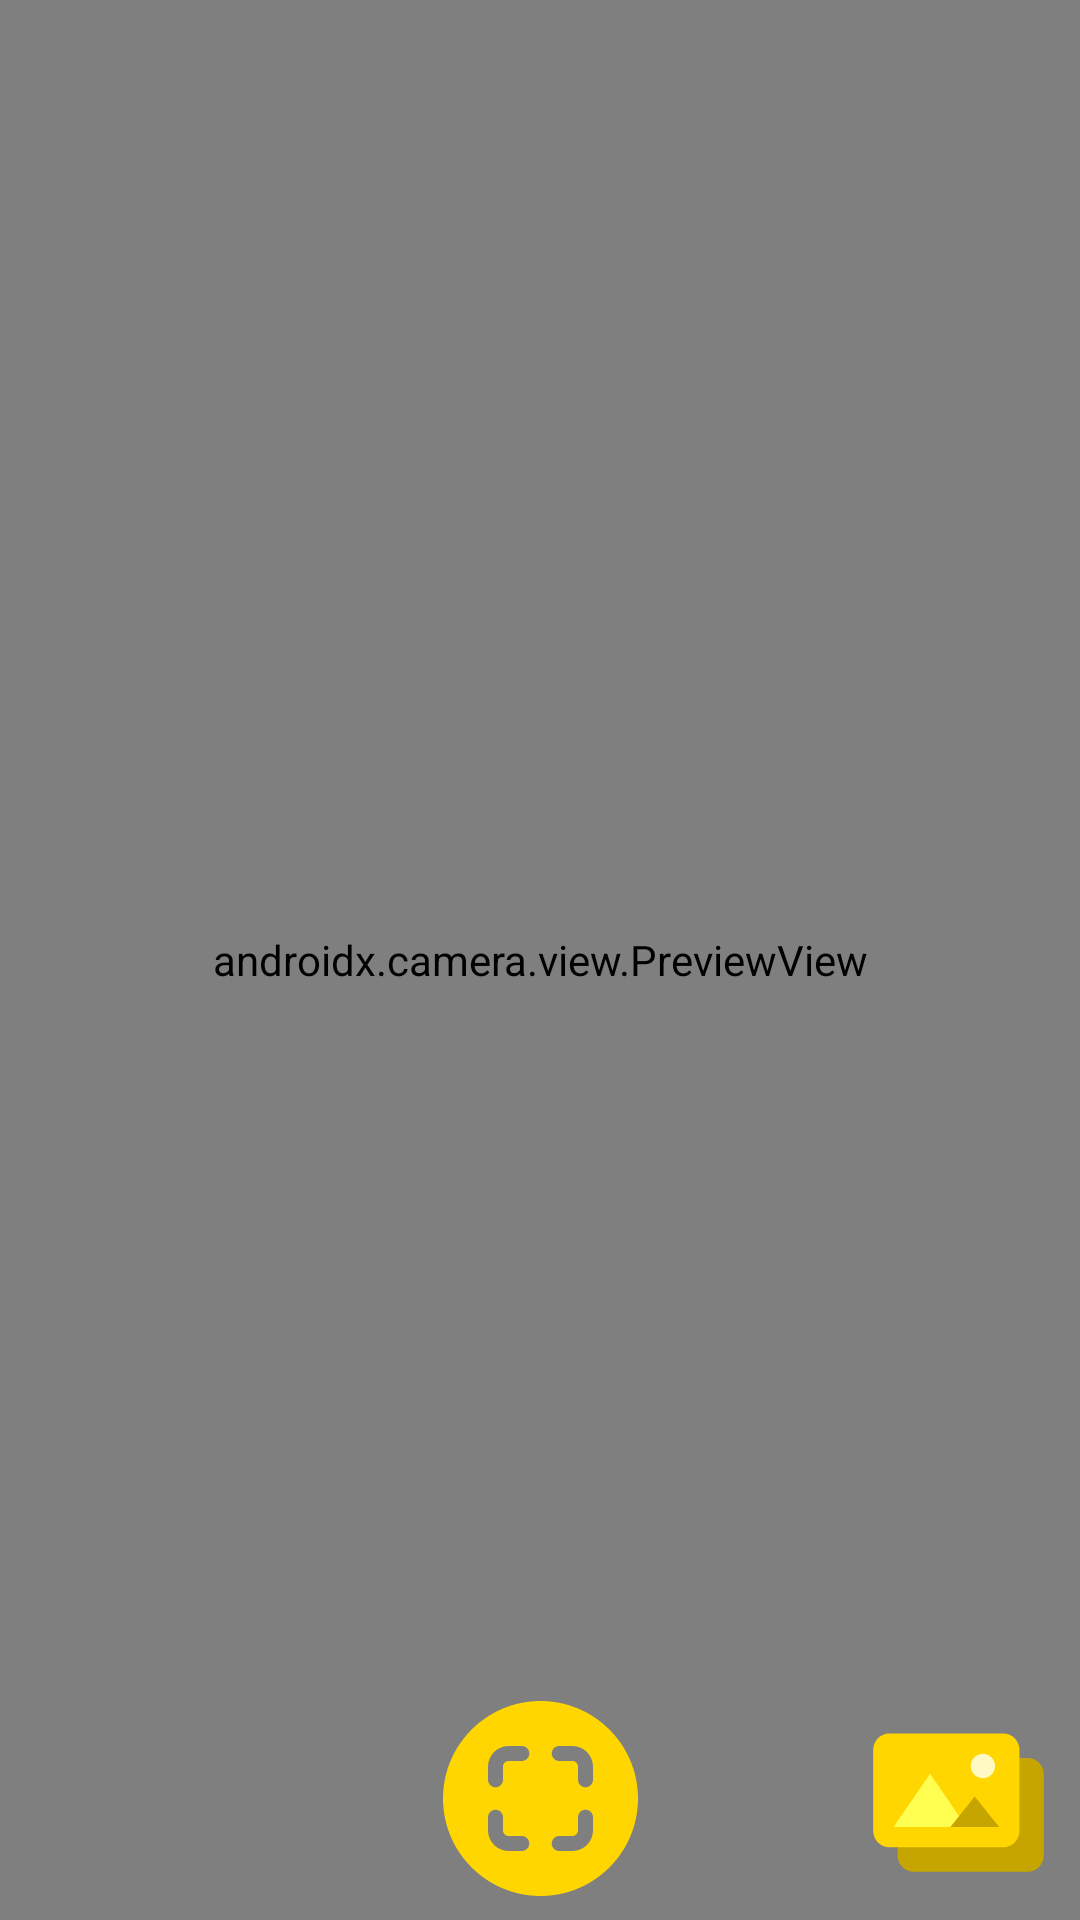

Screen size 1080×1920. Icon name, then its center in pixels as (x=x, y=y):
gallery: (x=958, y=1802)
scan: (x=540, y=1798)
